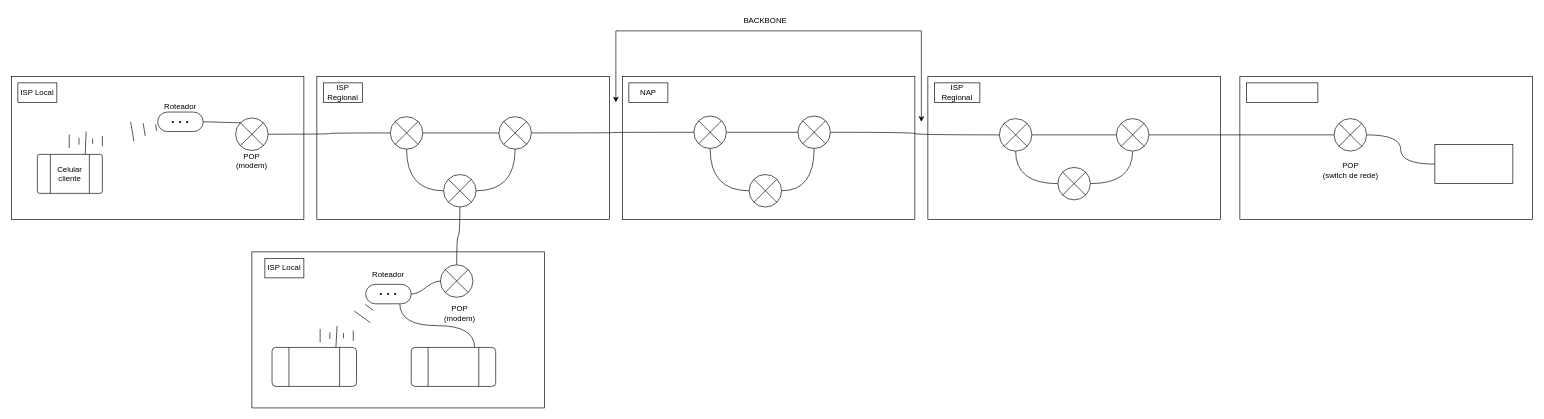
Image size: 1544x419. Some labels were removed from this diagram. Here are the shapes that lost their labels. From the top down, the centre of each, then its label:
At point 1282,92: "Rede Corporativa IFOOD".
At point 1473,164: "Cluster servidor IFOOD".
At point 314,366: "Celular Restaurante".
At point 453,366: "Computador Restaurante".
